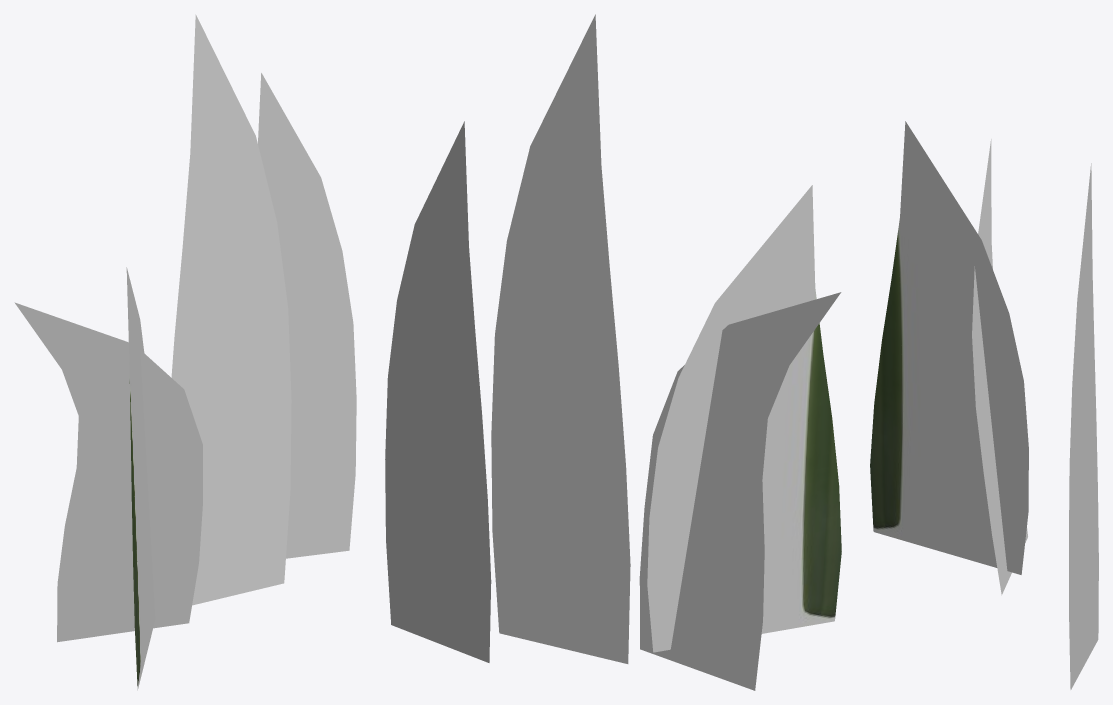
Rendered from Grass.fbx.
The picture shows the model from 3 angles, left to right: view 1: azimuth 30°, elevation 25°; view 2: azimuth 150°, elevation 25°; view 3: azimuth 270°, elevation 25°; orthographic projection. The views are drawn at different scales.
Visible parts, largest first — view 1: Grass1; view 2: Grass1; view 3: Grass1.
Boxes of the visible parts, x1=… form: Grass1: x1=14, y1=14, x2=356, y2=690; Grass1: x1=385, y1=14, x2=841, y2=690; Grass1: x1=870, y1=121, x2=1098, y2=689.
Size of the model in its own units: 32.94 by 48.82 by 17.07.
1 material, 1 textured.
